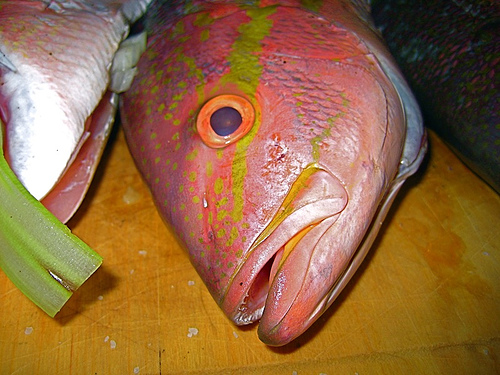fish: (117, 0, 432, 352)
